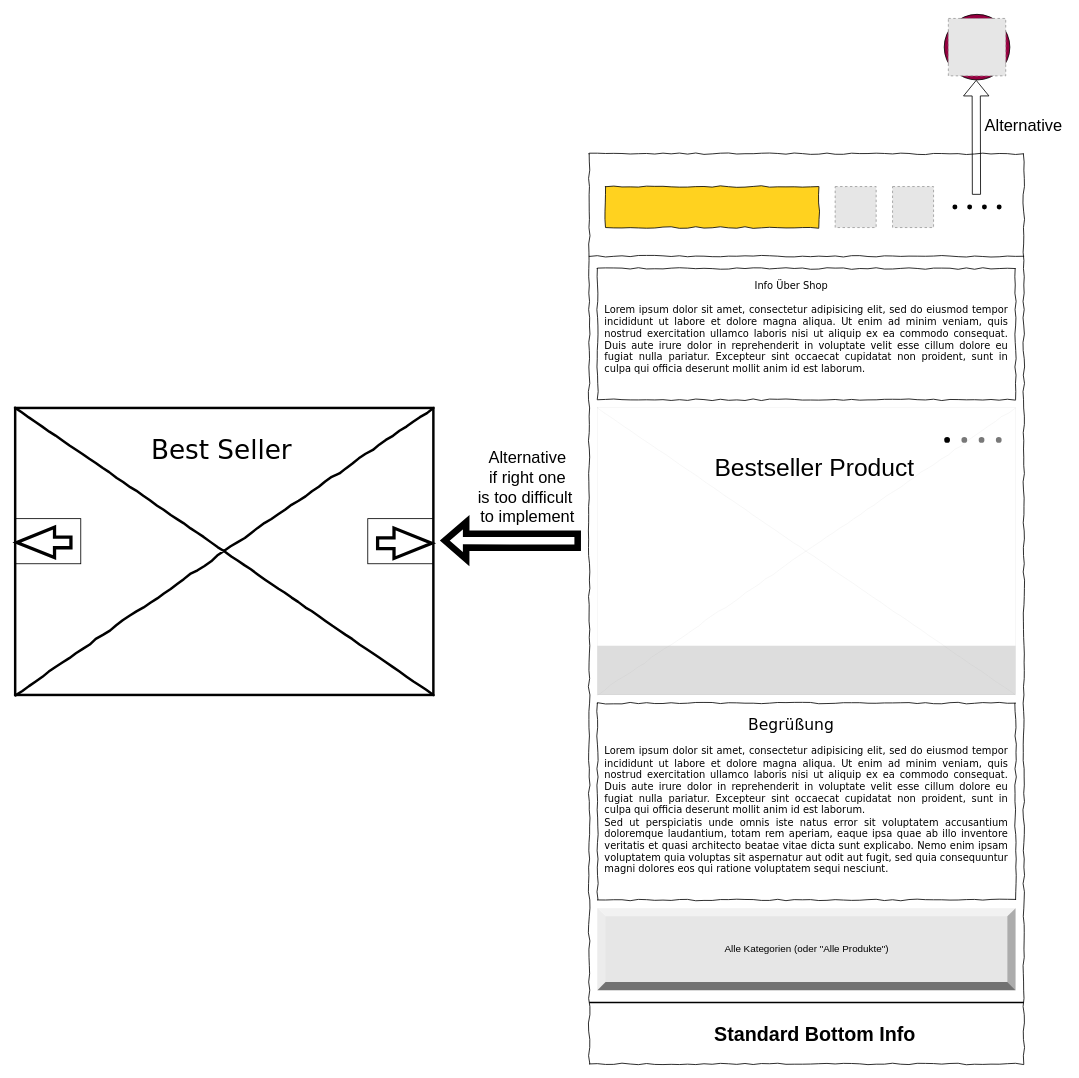
The diagram is 1079 pixels wide and 1078 high, and some of its shapes have lost their labels. Grey dashed boxes stand in for pictures. Each missing label, with the centre of its shape:
"LOGO 1" belongs at (x=712, y=207).
"Name of Product" belongs at (x=806, y=670).
